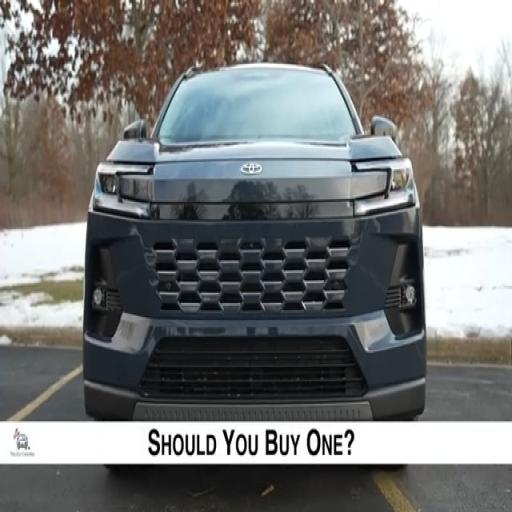bumper: (155, 238, 350, 313)
emblem: (241, 163, 262, 174)
fog_light: (92, 288, 104, 307), (405, 285, 415, 305)
grille: (154, 238, 350, 314), (140, 338, 366, 401)
headlight: (355, 158, 415, 216), (92, 163, 153, 217)
hood: (108, 137, 401, 204)
side_mirror: (371, 116, 396, 140), (124, 120, 147, 139)
tire: (380, 464, 408, 472)
windshield: (158, 69, 355, 143)
